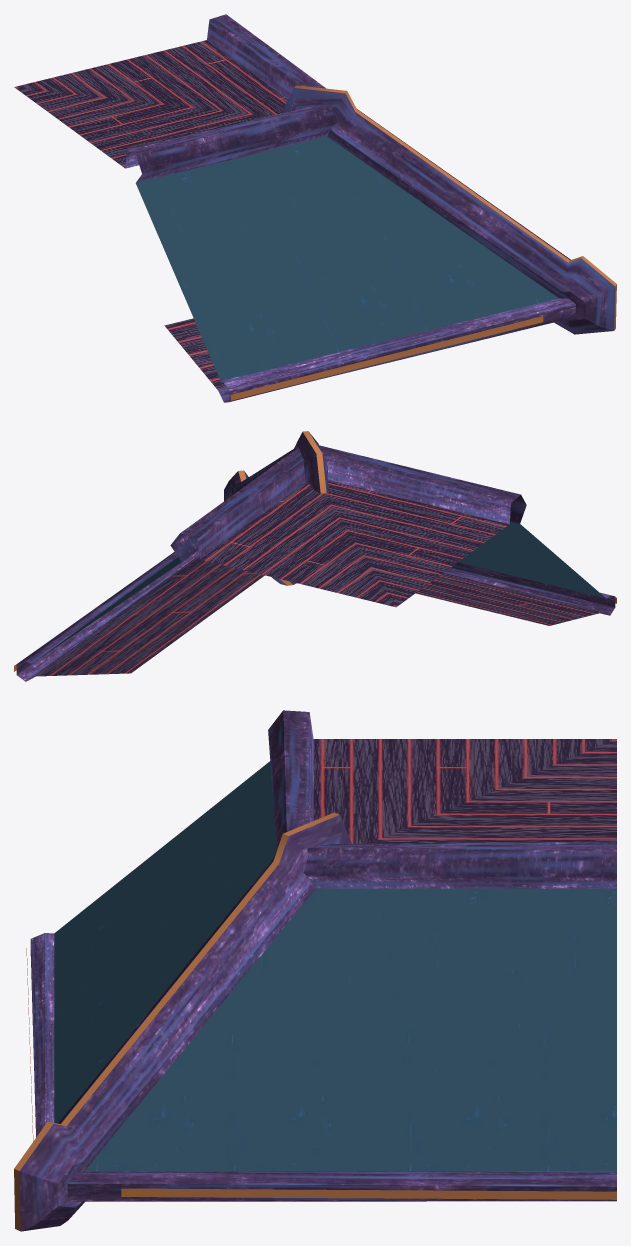
File: pm-temple-roof-01-corner.glb
3 views of the same model, one above another, from view 1: azimuth 30°, elevation 25°; view 2: azimuth 150°, elevation 25°; view 3: azimuth 270°, elevation 25° (orthographic). The views are drawn at different scales.
Parts seen in each view (by area): view 1: TempleRoof01Corner_Art; view 2: TempleRoof01Corner_Art; view 3: TempleRoof01Corner_Art.
Boxes of the visible parts, box(x1,y1,x2,y2) form: TempleRoof01Corner_Art: box(14, 14, 616, 402); TempleRoof01Corner_Art: box(14, 431, 616, 681); TempleRoof01Corner_Art: box(14, 710, 616, 1231).
Bounding box in the file's own units: 8.84 × 4.74 × 8.84.
Materials: 4 (4 with a texture image).
